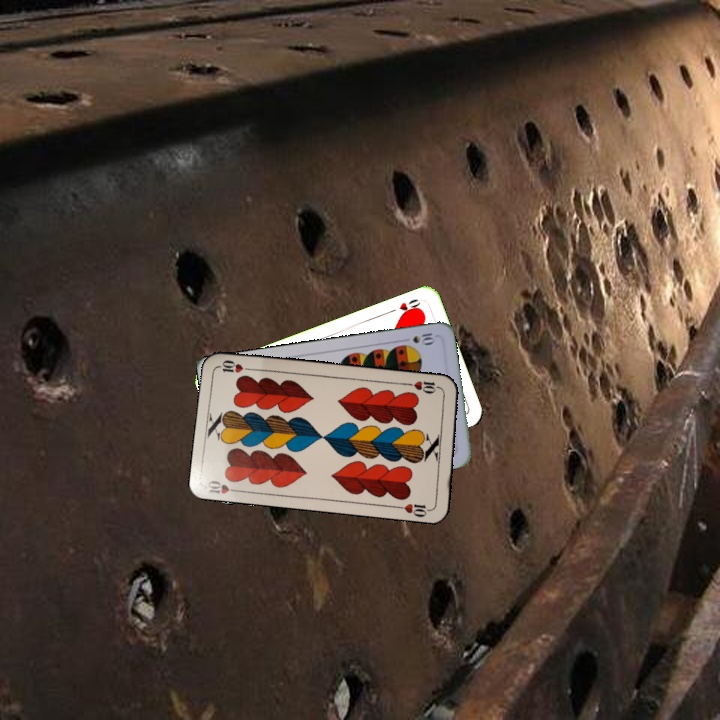H10: (204, 475, 244, 496), (404, 377, 444, 396)
HO: (385, 295, 423, 319)
S10: (398, 327, 438, 347)
